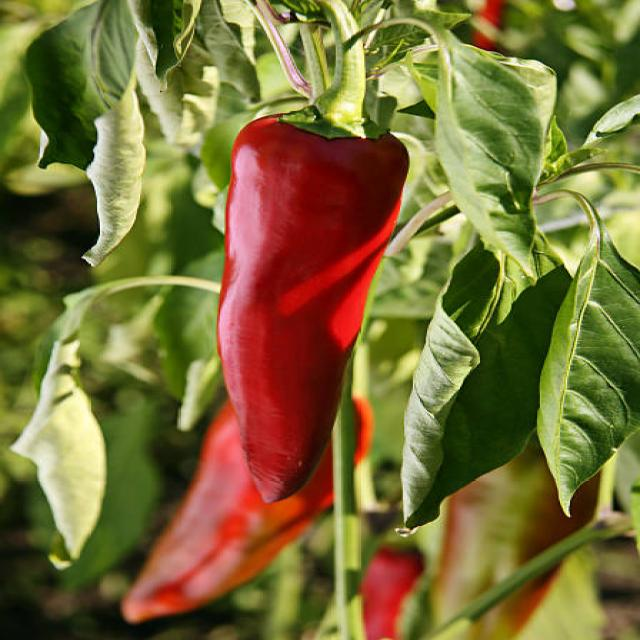Ripe: (219, 115, 406, 502)
